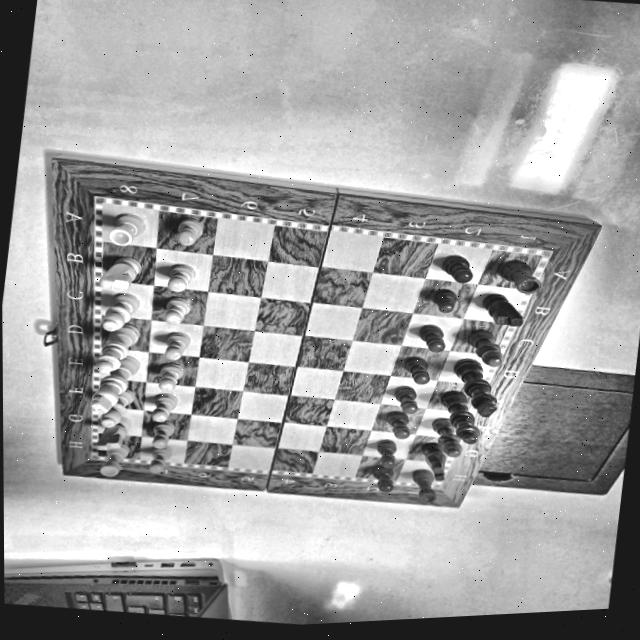black-bishop: (466, 326, 506, 370), (431, 416, 466, 459)
black-king: (449, 357, 509, 419)
black-knight: (477, 290, 528, 330), (419, 441, 453, 485)
black-pawn: (414, 318, 451, 357), (441, 249, 477, 287), (425, 284, 466, 317), (374, 434, 406, 470), (403, 352, 433, 388), (368, 461, 399, 494), (392, 382, 421, 415), (386, 410, 413, 440)
black-queen: (435, 385, 483, 447)
black-rook: (500, 257, 543, 297), (411, 467, 440, 508)
white-bishop: (97, 288, 147, 336), (96, 385, 139, 432)
white-king: (88, 350, 140, 420)
white-knight: (98, 250, 149, 297), (91, 412, 133, 455)
white-pawn: (153, 326, 196, 364), (148, 391, 180, 428), (160, 295, 195, 328), (153, 361, 186, 396), (146, 419, 182, 451), (144, 443, 180, 475), (172, 216, 207, 248), (166, 263, 197, 292)
white-queen: (94, 320, 140, 377)
white-rook: (101, 208, 151, 256), (92, 441, 133, 482)
